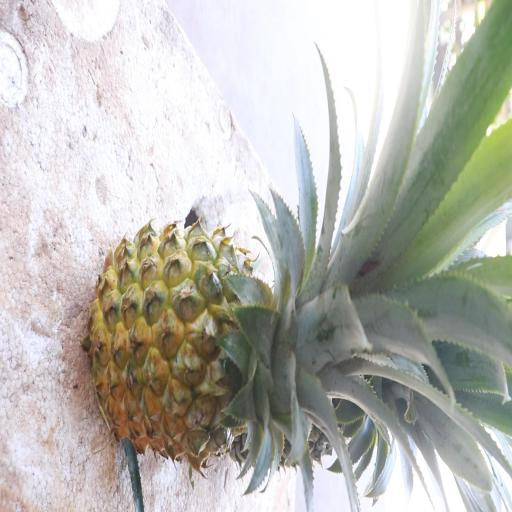Pineapple - v8 v1: (86, 212, 374, 473)
